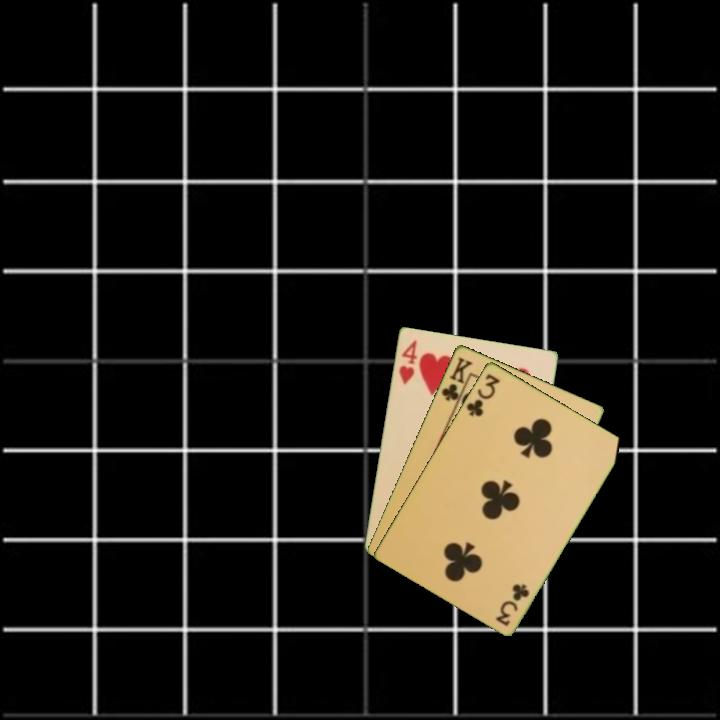3c: (462, 370, 503, 419), (492, 580, 532, 629)
4h: (395, 336, 419, 388)
Kc: (438, 353, 475, 409)
